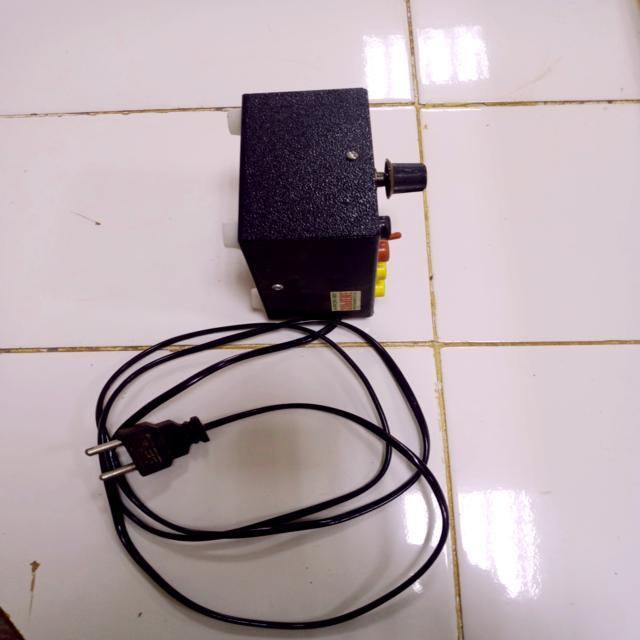Ripple Tank Power Supply: (215, 72, 438, 330)
